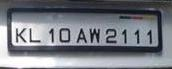0: (57, 27, 71, 42)
1: (119, 26, 128, 43), (144, 27, 153, 44), (47, 26, 55, 43), (132, 27, 140, 43)
2: (103, 27, 117, 43)
A: (74, 26, 88, 43)
K: (12, 25, 27, 43)
L: (27, 25, 41, 42)
W: (87, 26, 101, 44)
